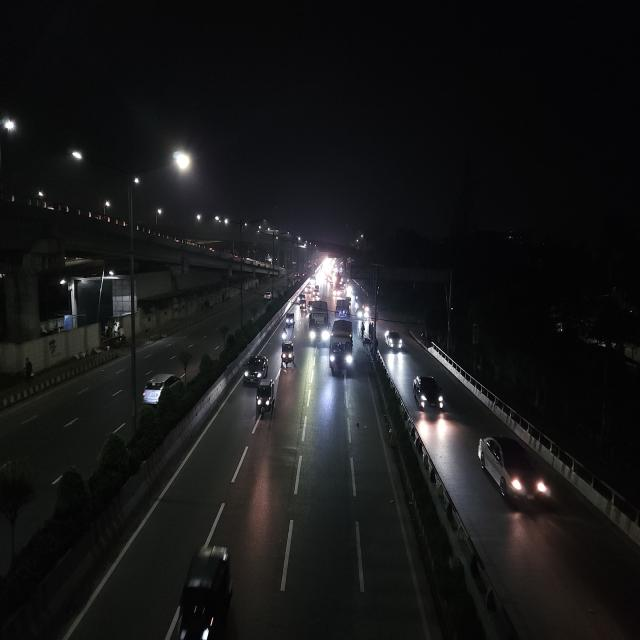bus: (329, 319, 354, 378), (308, 299, 330, 348), (334, 296, 352, 318)
car: (474, 430, 554, 514), (139, 367, 185, 408), (410, 371, 448, 420), (385, 328, 405, 353), (262, 288, 273, 302)
cng: (254, 376, 278, 420), (241, 352, 269, 384), (279, 339, 296, 370), (284, 311, 296, 330)
motorcycle: (280, 325, 290, 343)
pedestrian: (360, 322, 366, 340)
